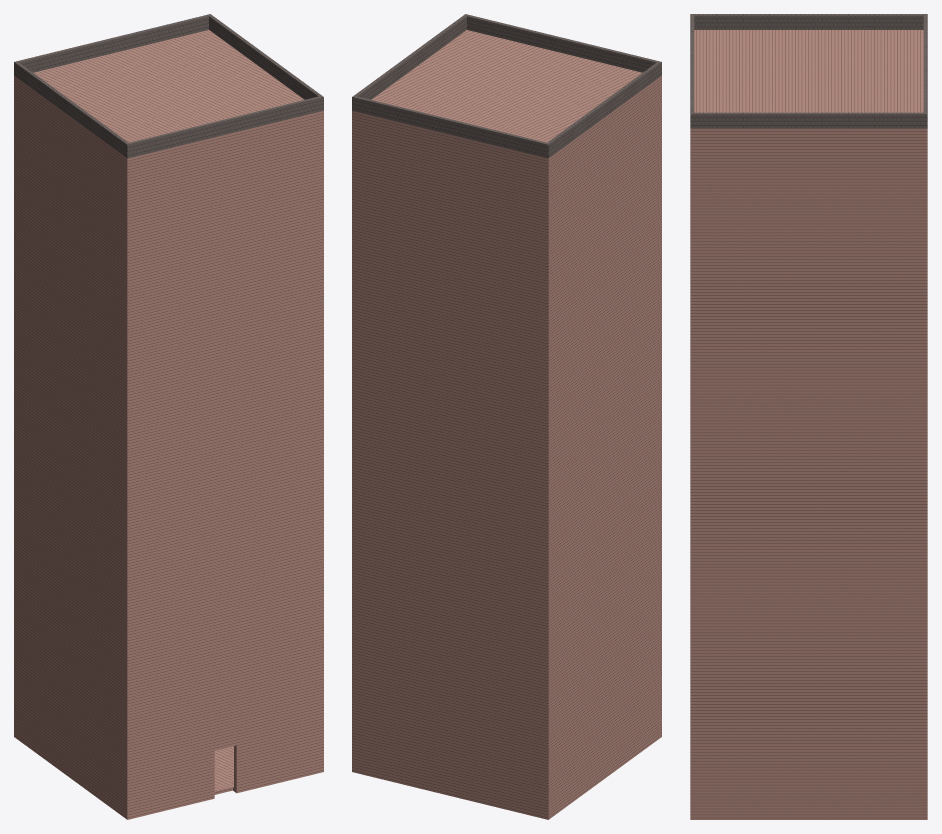
File: grain_elevator_large.glb
3 renders of one model, left to right at view 1: azimuth 30°, elevation 25°; view 2: azimuth 150°, elevation 25°; view 3: azimuth 270°, elevation 25°, orthographic. The views are drawn at different scales.
Visible parts, largest first — view 1: grain_elevator_large-col; view 2: grain_elevator_large-col; view 3: grain_elevator_large-col.
Boxes of the visible parts, x1=… form: grain_elevator_large-col: x1=14, y1=14, x2=323, y2=819; grain_elevator_large-col: x1=352, y1=14, x2=661, y2=819; grain_elevator_large-col: x1=690, y1=14, x2=927, y2=819.
Size of the model in its own units: 9 by 29.56 by 9.
Materials: 2 (2 with a texture image).
